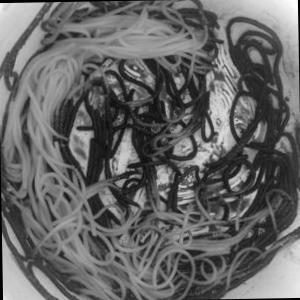pasta: (9, 3, 278, 286)
